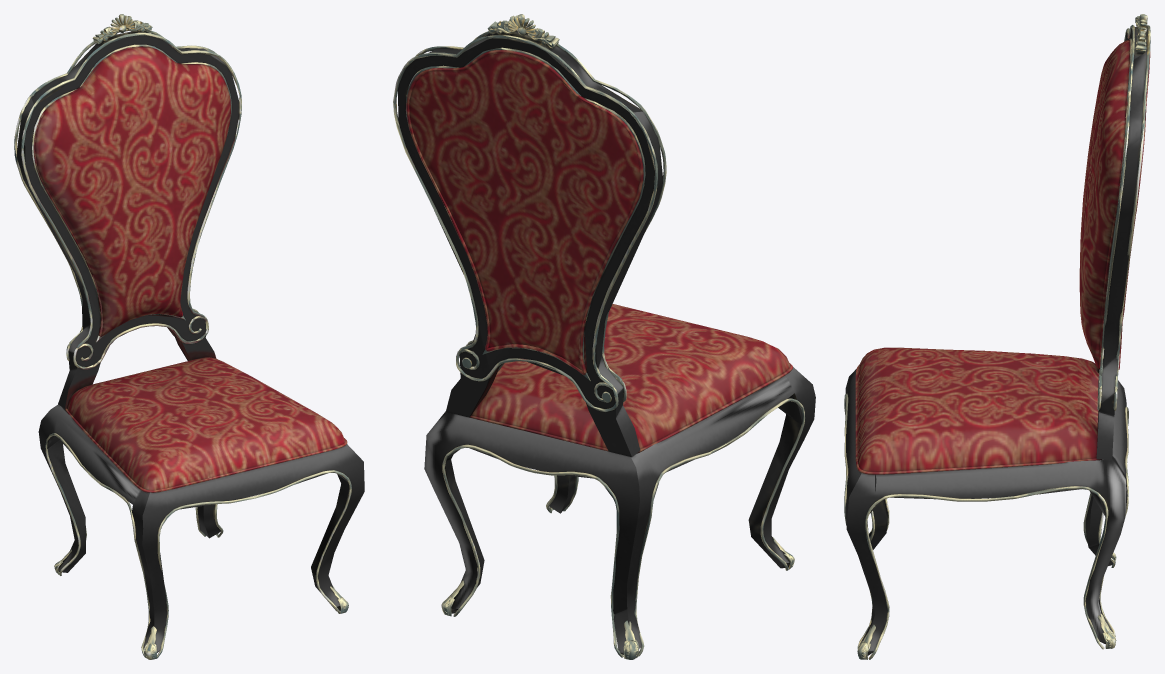
The model's file is raw_model.obj.
3 views of the same model, side by side, from view 1: azimuth 30°, elevation 25°; view 2: azimuth 150°, elevation 25°; view 3: azimuth 270°, elevation 25° (orthographic). The views are drawn at different scales.
Parts seen in each view (by area): view 1: solid_001, solid_003, solid_002; view 2: solid_001, solid_003, solid_002; view 3: solid_001, solid_003, solid_002.
Boxes of the visible parts, x1=… form: solid_001: x1=33, y1=46, x2=347, y2=492; solid_003: x1=16, y1=31, x2=364, y2=652; solid_002: x1=14, y1=14, x2=351, y2=659; solid_001: x1=406, y1=50, x2=792, y2=453; solid_003: x1=397, y1=31, x2=815, y2=654; solid_002: x1=393, y1=14, x2=804, y2=659; solid_001: x1=855, y1=39, x2=1150, y2=474; solid_003: x1=845, y1=27, x2=1147, y2=655; solid_002: x1=844, y1=14, x2=1150, y2=659.
Size of the model in its own units: 0.5538 by 1.25 by 0.5875.
1 material, 1 textured.
